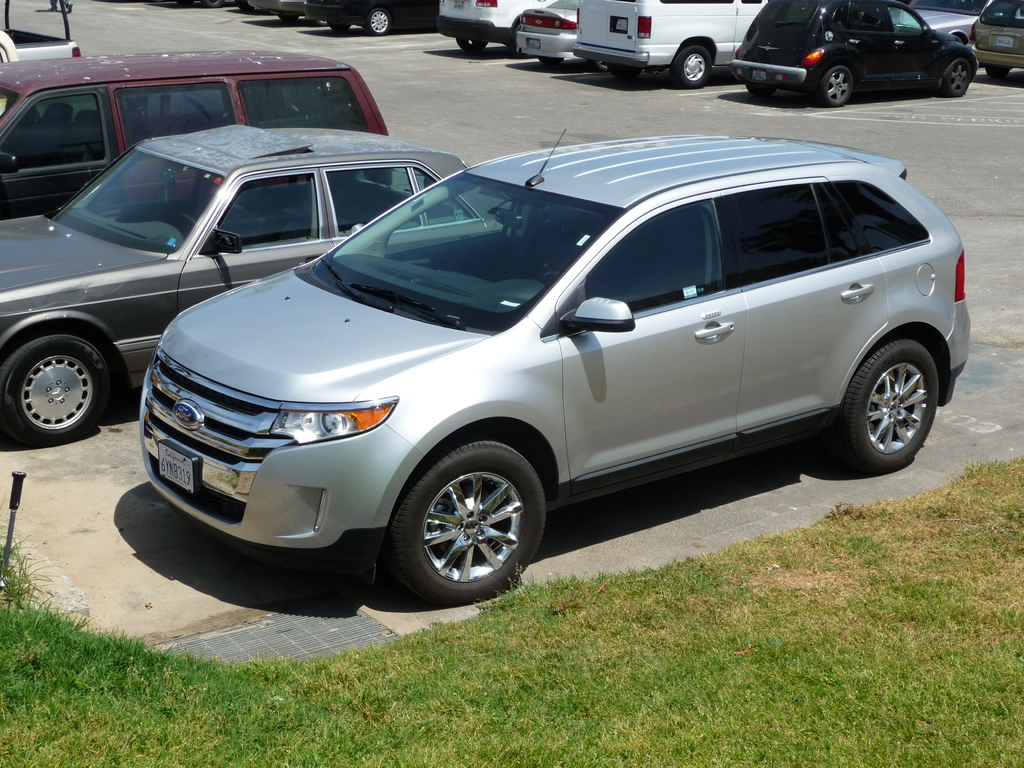Car: (139, 127, 970, 606), (0, 122, 467, 446), (180, 0, 1023, 108), (0, 45, 396, 220)
